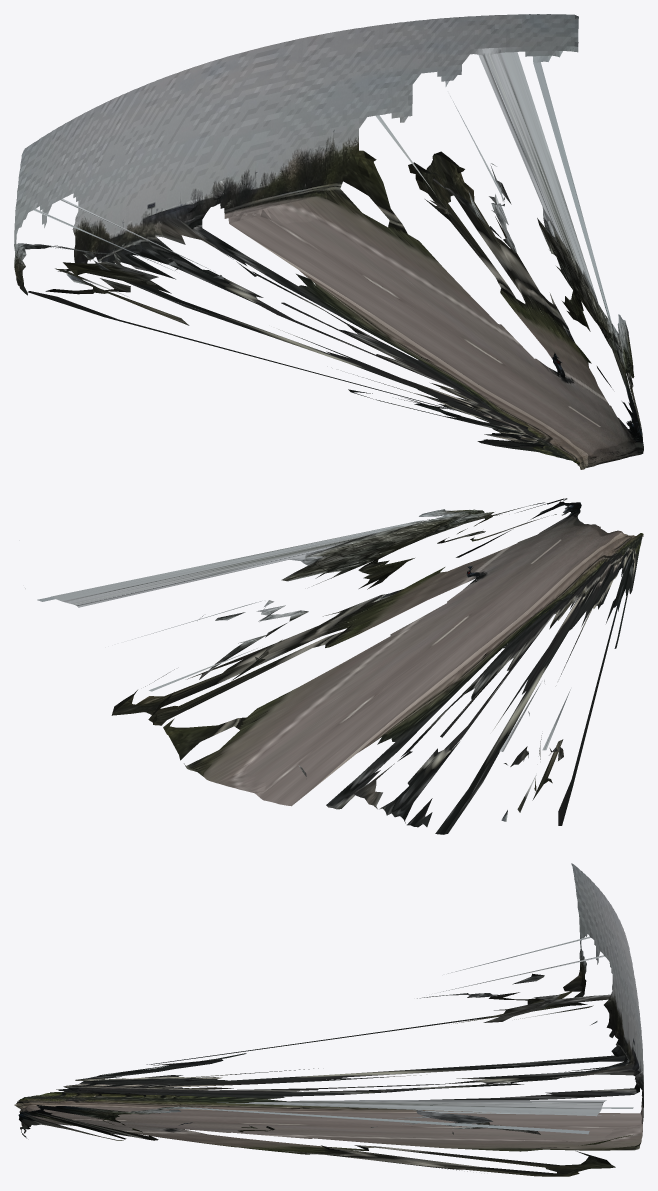
3 views of the same model, one above another, from view 1: azimuth 30°, elevation 25°; view 2: azimuth 150°, elevation 25°; view 3: azimuth 270°, elevation 25° (orthographic). The views are drawn at different scales.
Visible parts, largest first — view 1: defaultobject; view 2: defaultobject; view 3: defaultobject.
Part boxes in pixels (bbox=[...]): defaultobject: bbox=[14, 14, 643, 469]; defaultobject: bbox=[25, 498, 643, 834]; defaultobject: bbox=[14, 863, 643, 1176].
Bounding box in the file's own units: 40.94 × 12.39 × 44.71.
Materials: 1 (1 with a texture image).
